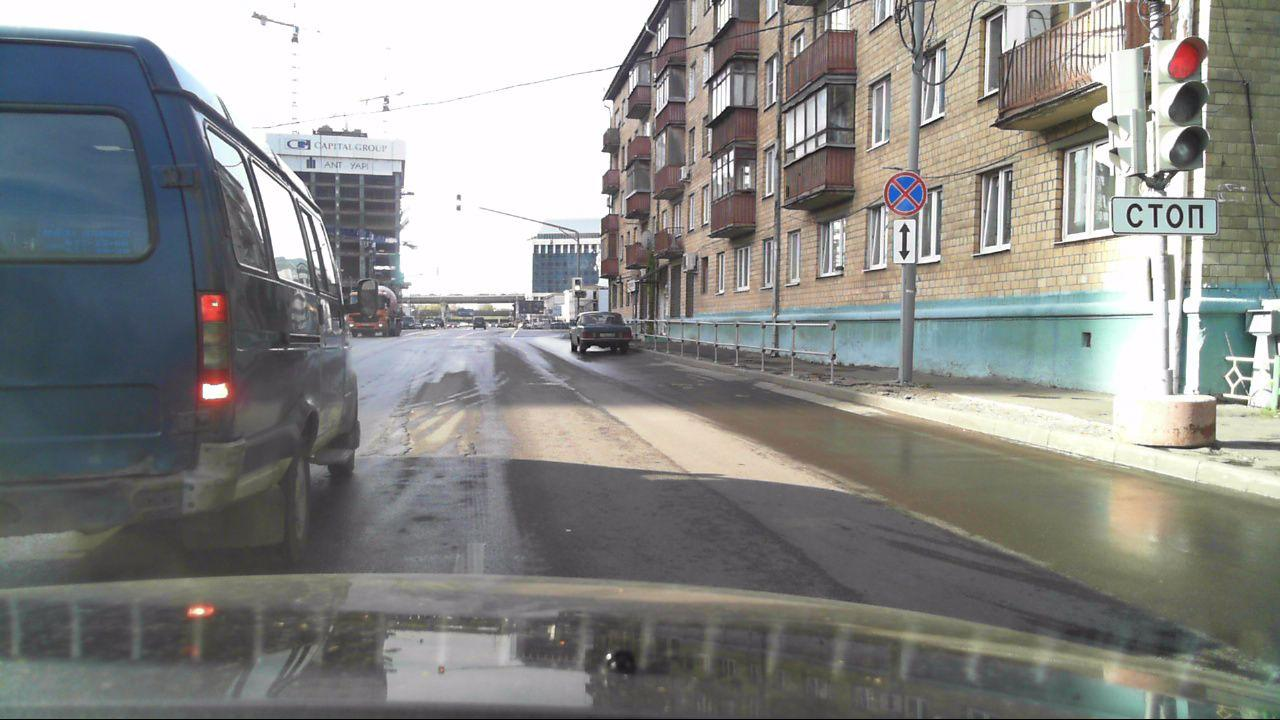3_27: (884, 171, 928, 216)
6_16: (1110, 196, 1219, 236)
8_2_4: (892, 219, 918, 265)
